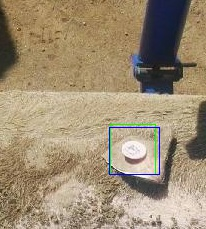text: (110, 124, 155, 174)
